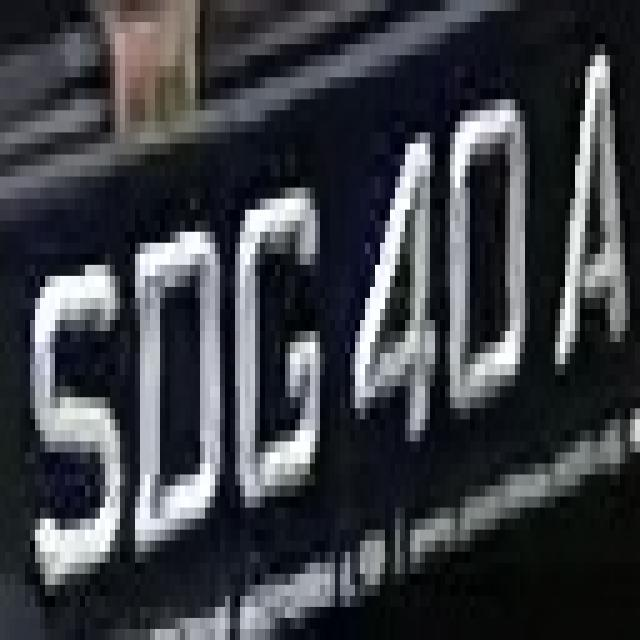0: (425, 100, 525, 408)
4: (325, 100, 450, 463)
A: (530, 0, 635, 441)
D: (115, 188, 225, 562)
G: (215, 155, 340, 530)
S: (10, 221, 130, 607)
